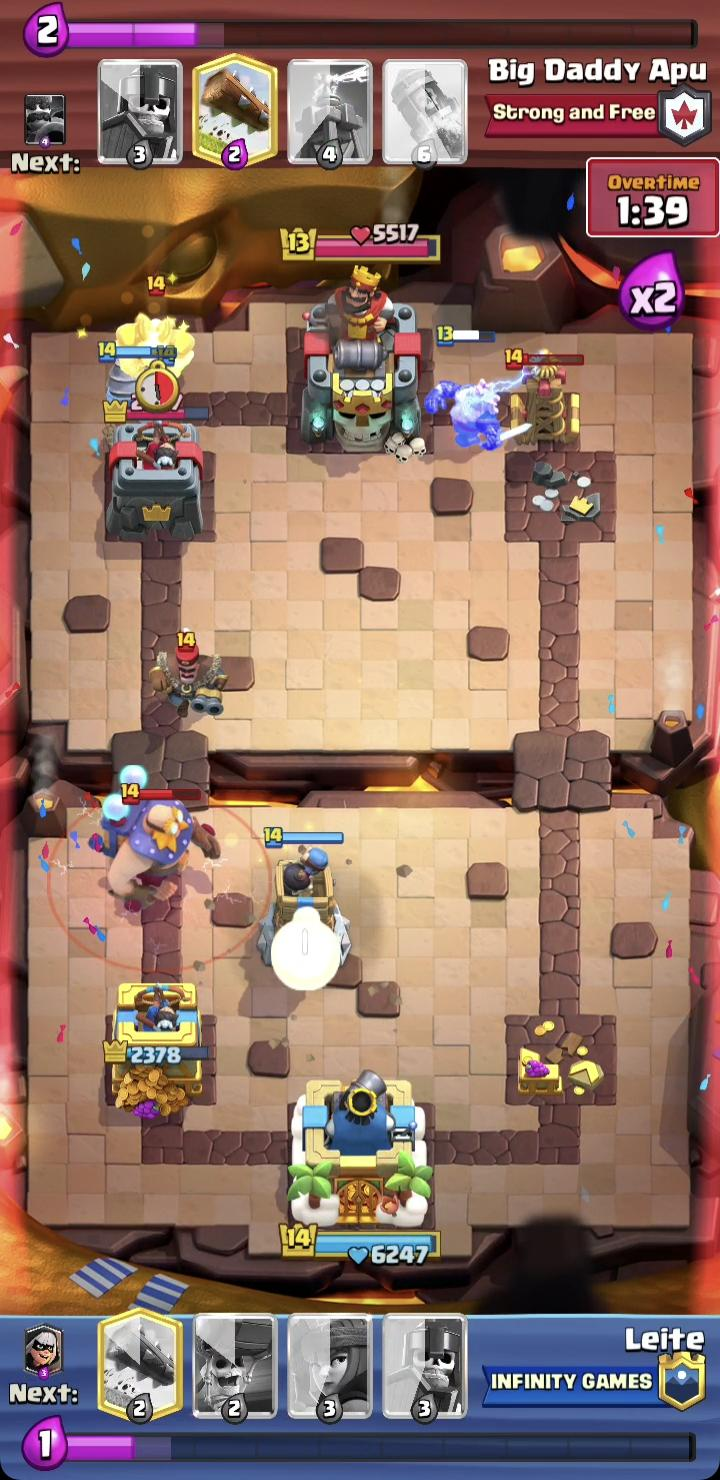EElectroG: (97, 765, 219, 901)
EHunter: (149, 630, 228, 720)
EKingTower: (301, 268, 421, 458)
EMegaM: (115, 313, 194, 378)
ETesla: (502, 349, 583, 448)
EnemyPrincessTower: (105, 421, 203, 540)
OBombertower: (257, 828, 351, 968)
OGoblinDrill: (99, 347, 142, 404)
ORoyalGhost: (425, 379, 512, 450)
OwnKingTower: (288, 1071, 432, 1228)
OwnPrincessTower: (103, 983, 214, 1116)
TowerDown: (506, 451, 616, 541), (506, 1014, 616, 1103)
